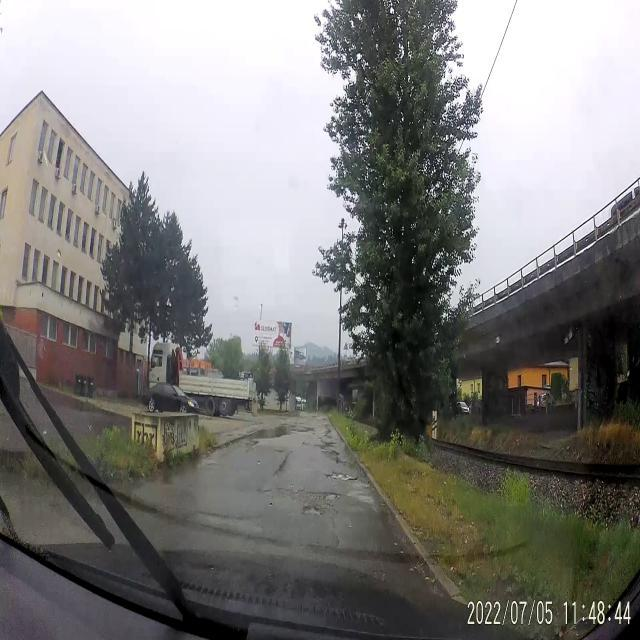Pothole: (316, 476, 342, 504), (322, 468, 358, 484), (280, 488, 316, 503), (322, 448, 346, 467), (299, 504, 322, 520), (370, 564, 390, 580), (262, 486, 272, 494), (207, 461, 217, 468)
